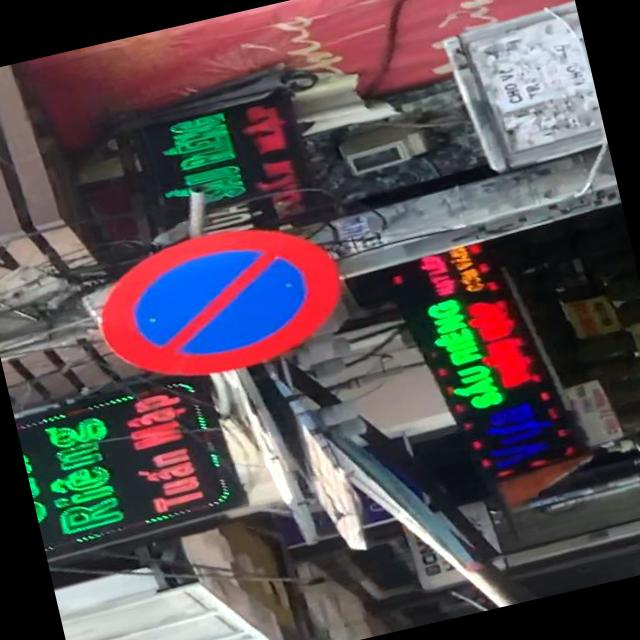P-131a: (88, 206, 354, 394)
